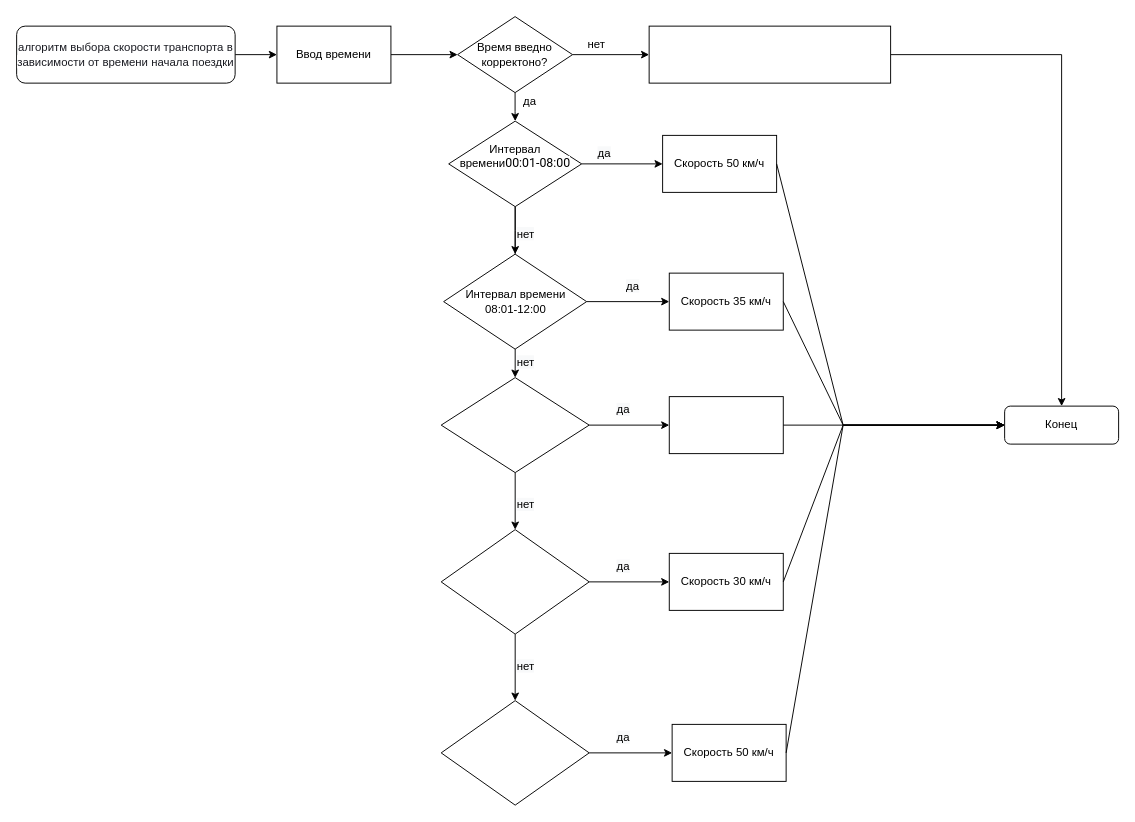
Image size: 1135x822. Some labels were removed from this diagram. The centre of each missing label's shape, as x and y in pixels:
Интервал времени 12:01 -18:00: the point at 514,425
Интервал времени 18:01 -22:00: the point at 514,581
Интервал времени 22:01-00:00: the point at 514,752
подсвечивается красным, ошибка " Вы ввели не корректное время ": the point at 769,54
Скорость 42 км/ч: the point at 725,425
